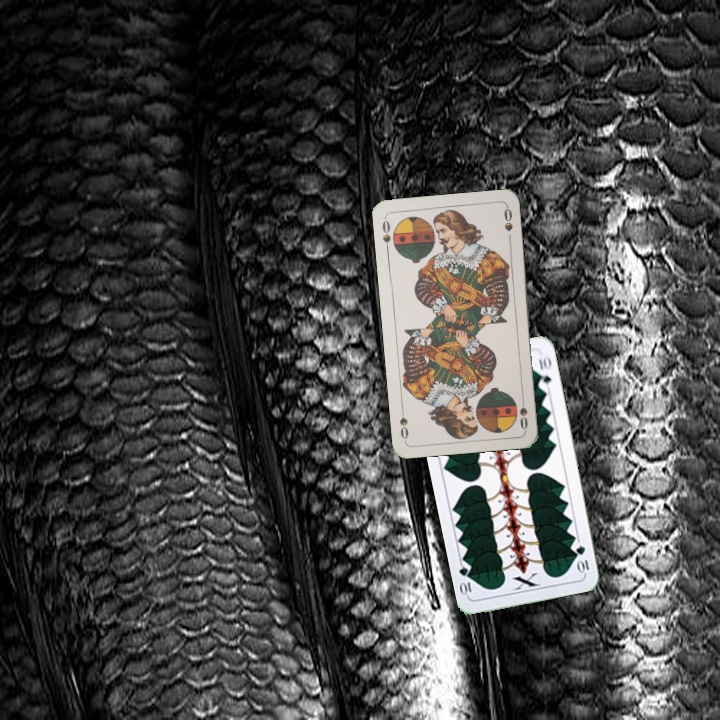G10: (572, 541, 592, 575)
SO: (515, 391, 530, 432), (378, 214, 393, 255)
